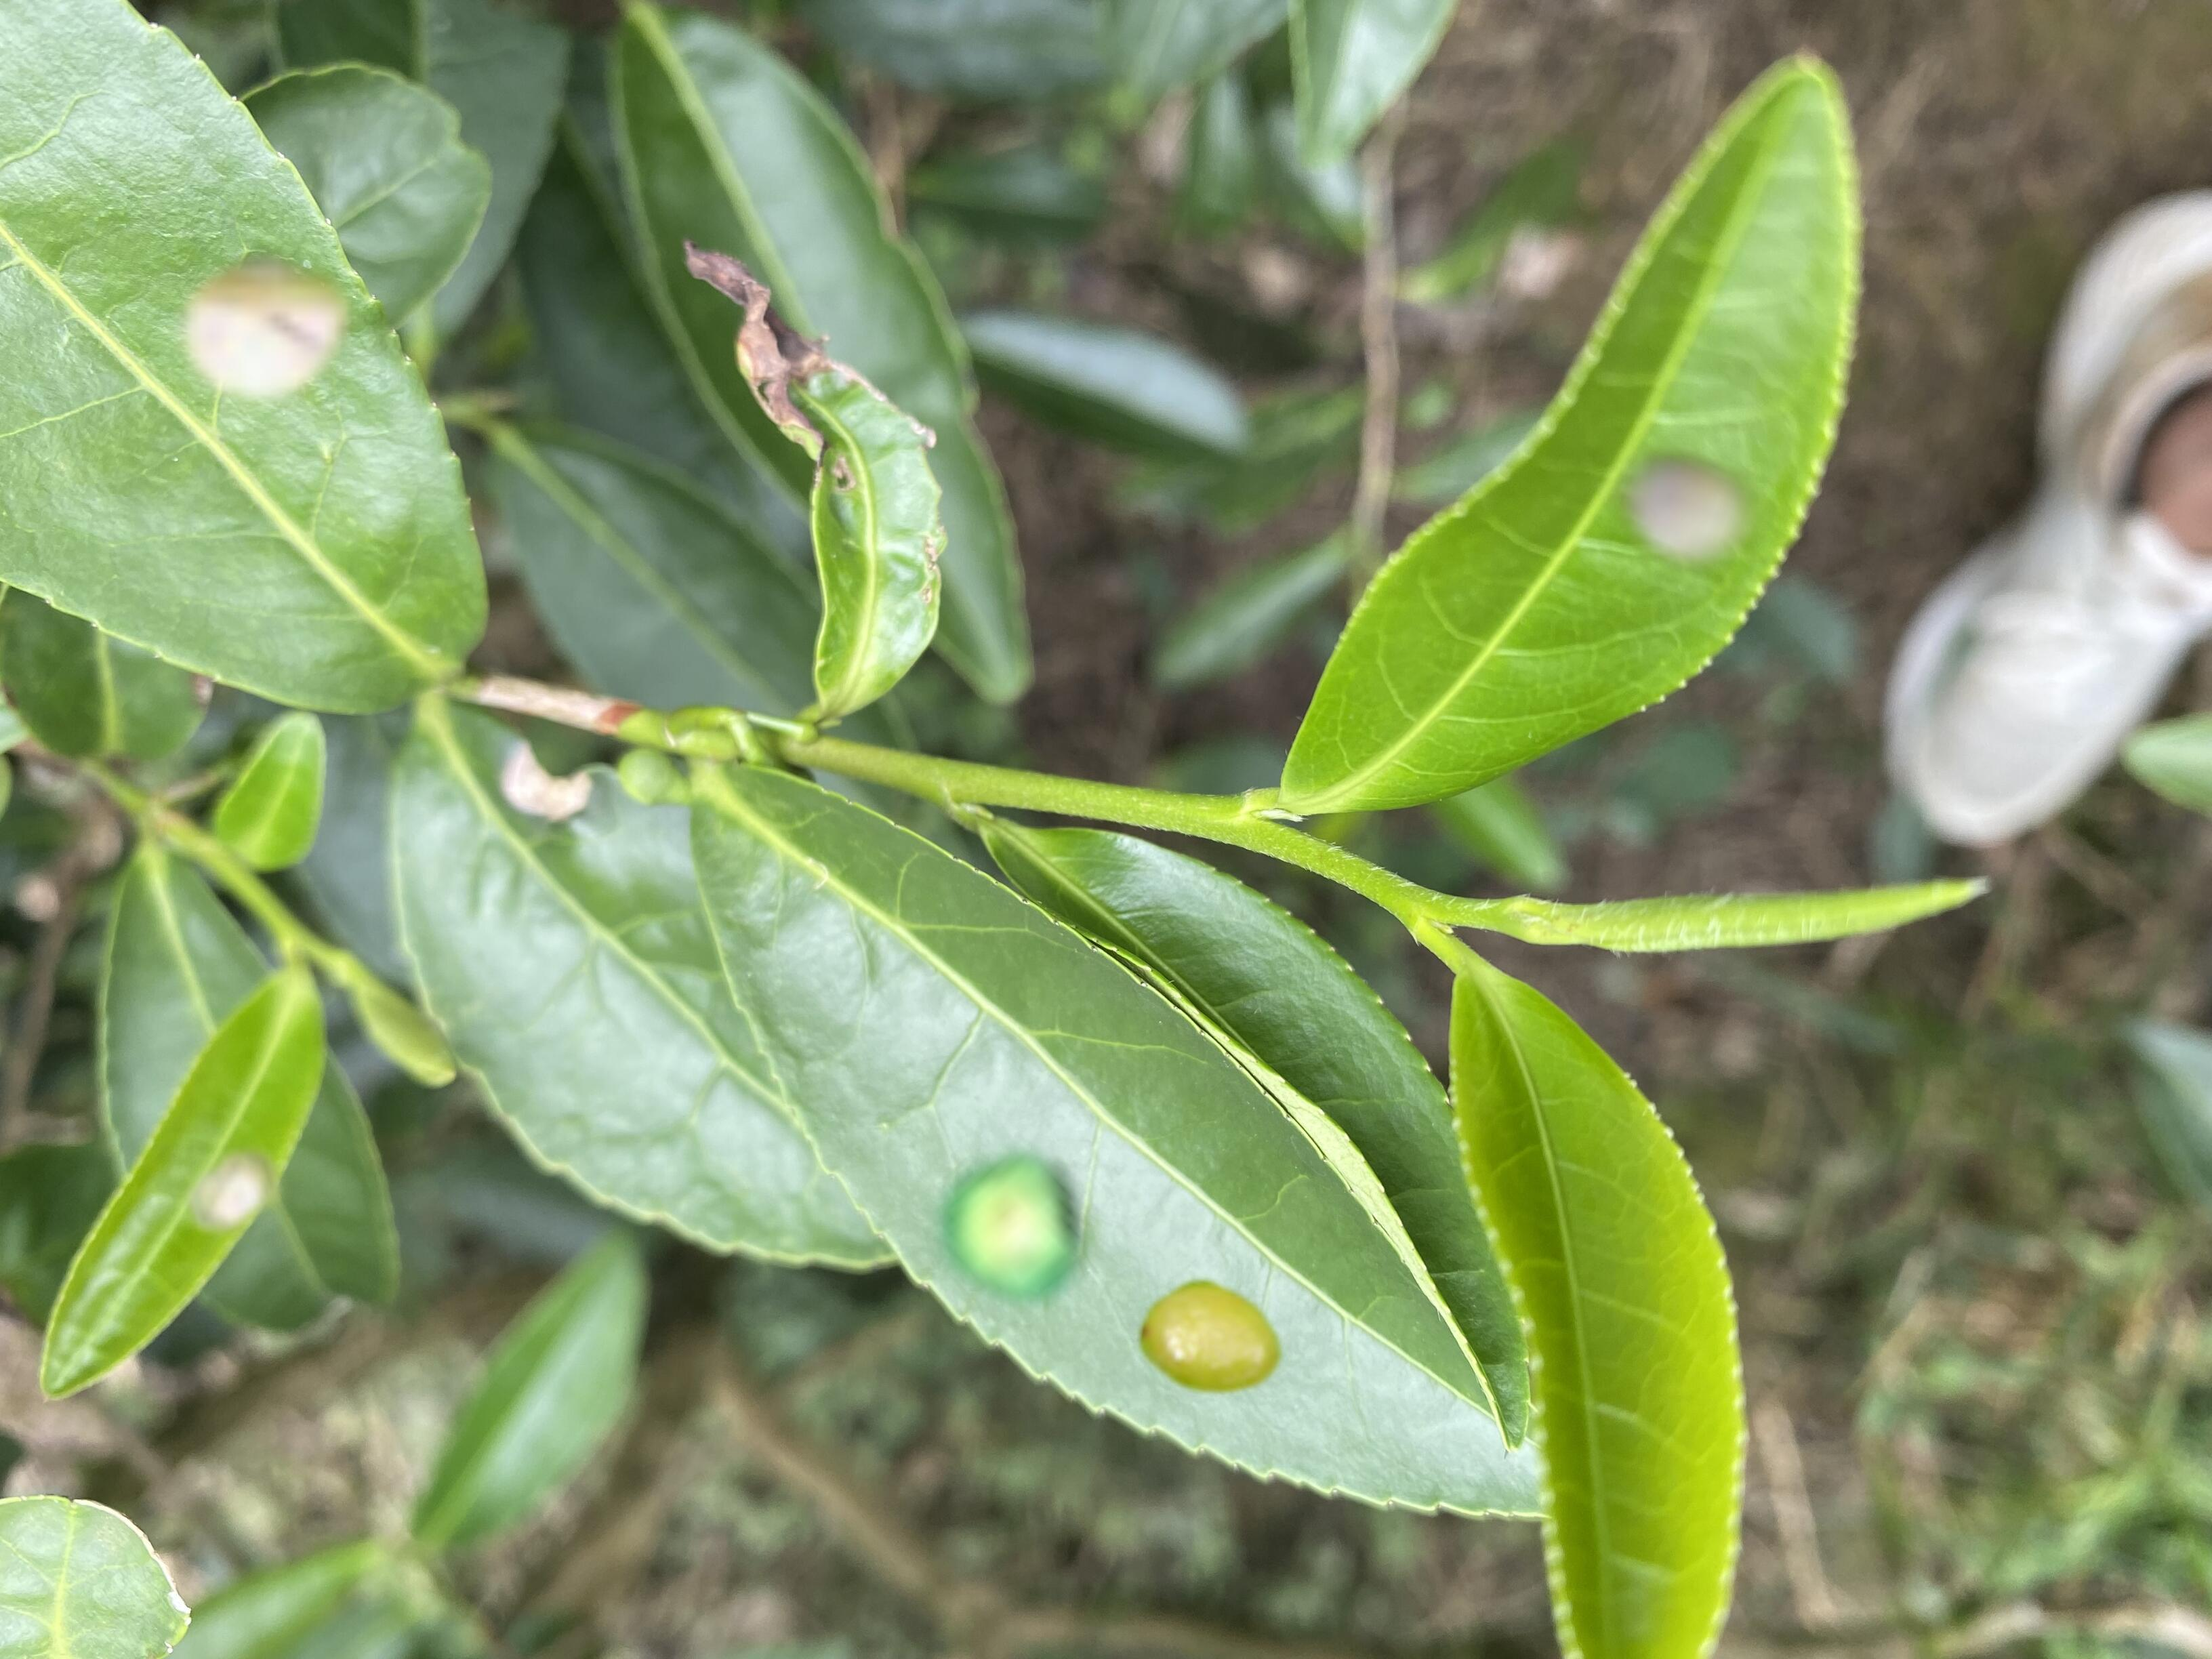chabing_high: (690, 762, 1534, 1525)
chabing_low: (1277, 47, 1867, 816), (2, 5, 495, 720), (37, 958, 327, 1405)
healthy: (1449, 969, 1750, 1656)
tanju_high: (679, 239, 944, 723)
